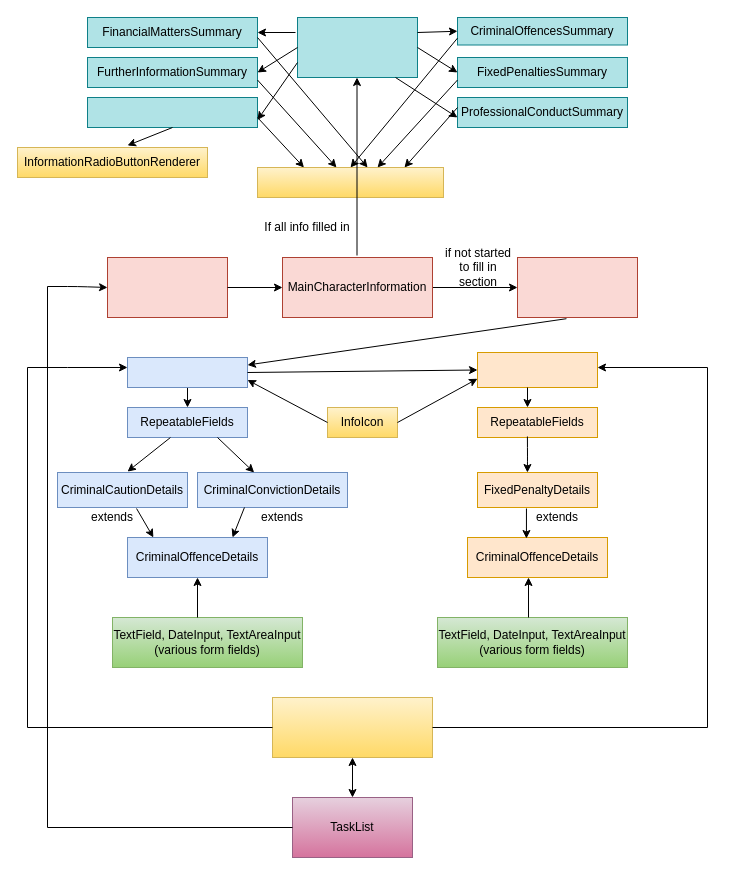
Image size: 733x875. Some labels were removed from this diagram. Each missing label, with the centre of its shape:
"Character Declaration" belongs at [577,287].
"Character Information" belongs at [167,287].
"CharacterInformationStatus" belongs at [352,727].
"Criminal Offences" belongs at [187,372].
"FixedPenaltyNotices" belongs at [537,370].
"InformationReview" belongs at [357,47].
"InformationReviewRenderer" belongs at [350,182].
"MotoringOffencesSummary" belongs at [172,112].
